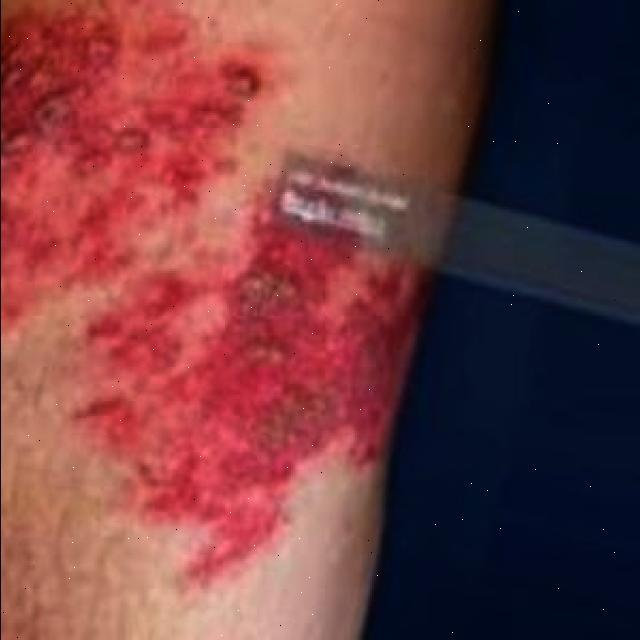Shingles: (60, 207, 411, 578), (0, 5, 259, 332)
